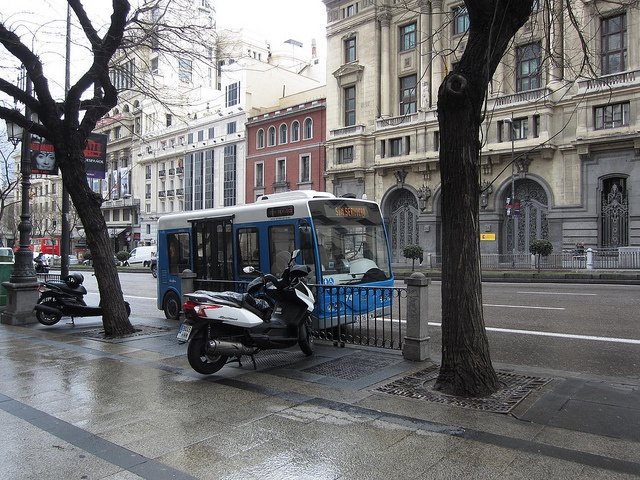non-vehicle: (172, 245, 320, 378), (36, 273, 102, 324)
